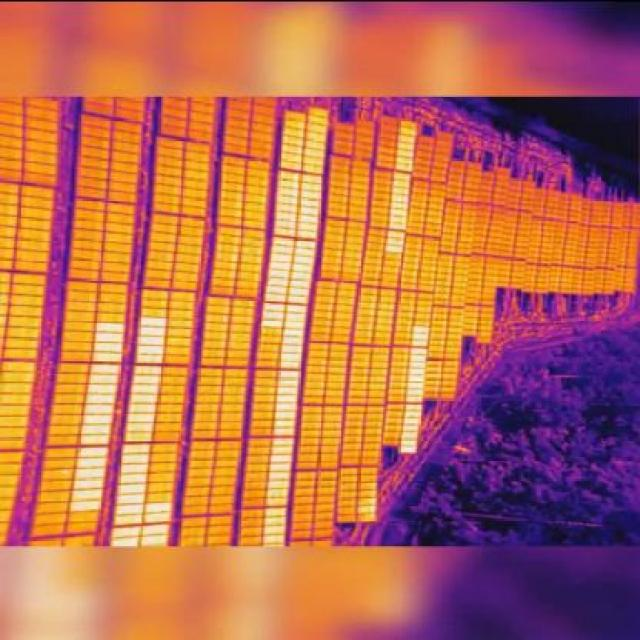diode: (76, 465, 107, 478), (70, 500, 104, 511), (80, 434, 112, 444), (81, 414, 112, 424), (83, 394, 114, 404), (113, 513, 141, 524), (116, 501, 144, 512), (119, 491, 147, 502), (70, 489, 104, 498), (134, 367, 161, 378), (144, 534, 168, 546), (144, 523, 170, 534), (77, 456, 103, 467), (79, 446, 107, 456), (72, 480, 103, 489), (257, 513, 288, 522), (270, 248, 292, 260), (279, 140, 301, 152), (120, 461, 148, 470), (92, 351, 120, 360), (95, 333, 123, 342), (140, 326, 165, 336), (144, 502, 171, 511), (121, 480, 148, 489), (85, 404, 112, 413), (89, 383, 116, 392), (94, 341, 121, 350), (134, 354, 161, 363), (134, 384, 158, 394), (97, 321, 123, 330), (280, 166, 298, 179), (112, 527, 137, 536), (299, 143, 324, 152), (90, 373, 118, 381), (278, 372, 300, 382), (260, 314, 282, 324), (145, 512, 172, 520), (122, 471, 146, 480), (125, 441, 149, 450), (127, 421, 151, 430), (127, 412, 151, 421), (94, 364, 118, 373), (264, 523, 288, 532), (269, 461, 293, 470), (131, 404, 152, 414), (265, 286, 286, 296), (276, 206, 295, 217), (111, 536, 137, 544), (134, 376, 160, 384), (138, 336, 164, 344), (133, 396, 158, 404), (268, 477, 290, 486), (286, 274, 308, 283), (288, 257, 310, 266), (262, 300, 284, 309), (296, 218, 318, 227), (279, 174, 301, 183), (138, 345, 162, 353), (302, 136, 326, 144), (269, 258, 288, 268), (282, 132, 301, 142), (125, 432, 152, 439), (81, 425, 108, 432), (281, 351, 302, 360), (397, 125, 418, 134), (140, 314, 166, 321), (307, 126, 325, 136), (275, 222, 293, 232), (266, 505, 288, 513), (278, 382, 300, 390), (285, 310, 307, 318), (270, 233, 292, 241), (302, 170, 324, 178), (279, 150, 301, 158), (299, 201, 318, 210), (283, 118, 302, 127), (124, 451, 148, 458), (262, 534, 286, 541), (294, 227, 315, 235), (268, 263, 286, 272), (267, 271, 285, 280), (275, 214, 293, 223), (305, 177, 323, 186), (305, 160, 323, 169), (307, 117, 325, 126), (273, 419, 295, 426), (289, 268, 311, 275), (294, 234, 311, 243), (276, 409, 295, 417), (308, 110, 327, 118), (283, 126, 302, 134), (275, 199, 296, 206), (358, 496, 376, 504), (281, 357, 299, 365), (277, 183, 295, 191), (305, 152, 323, 160), (274, 192, 298, 198), (276, 392, 295, 399), (299, 211, 318, 218), (279, 158, 298, 165), (269, 472, 291, 478), (282, 326, 304, 332), (260, 308, 282, 314), (300, 186, 322, 192), (393, 140, 415, 146), (292, 250, 308, 258), (267, 498, 288, 504), (268, 488, 289, 494), (271, 454, 292, 460), (271, 446, 292, 452), (272, 428, 293, 434), (281, 342, 299, 349), (271, 242, 292, 248), (297, 194, 318, 200), (401, 430, 416, 438), (295, 243, 310, 251), (391, 196, 406, 204), (408, 379, 423, 387), (394, 162, 411, 169), (406, 388, 425, 394), (278, 401, 297, 407), (265, 282, 284, 288), (389, 190, 408, 196), (392, 172, 411, 178), (412, 327, 426, 335), (395, 154, 411, 161), (275, 438, 293, 444), (280, 366, 298, 372), (282, 333, 300, 339), (288, 301, 306, 307), (288, 293, 306, 299), (388, 213, 406, 219), (391, 181, 409, 187), (397, 146, 415, 152), (356, 504, 373, 510), (290, 286, 307, 292), (384, 244, 401, 250), (405, 394, 421, 400), (408, 353, 424, 359), (411, 336, 427, 342), (386, 237, 402, 243), (401, 444, 417, 450), (398, 133, 414, 139), (286, 319, 305, 324), (391, 206, 406, 212), (388, 221, 403, 227), (141, 543, 170, 546), (404, 416, 418, 422), (412, 346, 426, 352), (400, 438, 414, 444), (389, 230, 403, 236), (406, 410, 419, 416), (407, 402, 419, 408), (410, 367, 422, 373), (411, 360, 424, 365), (401, 424, 417, 428), (409, 375, 423, 379)
hotspot: (370, 512, 375, 518)
